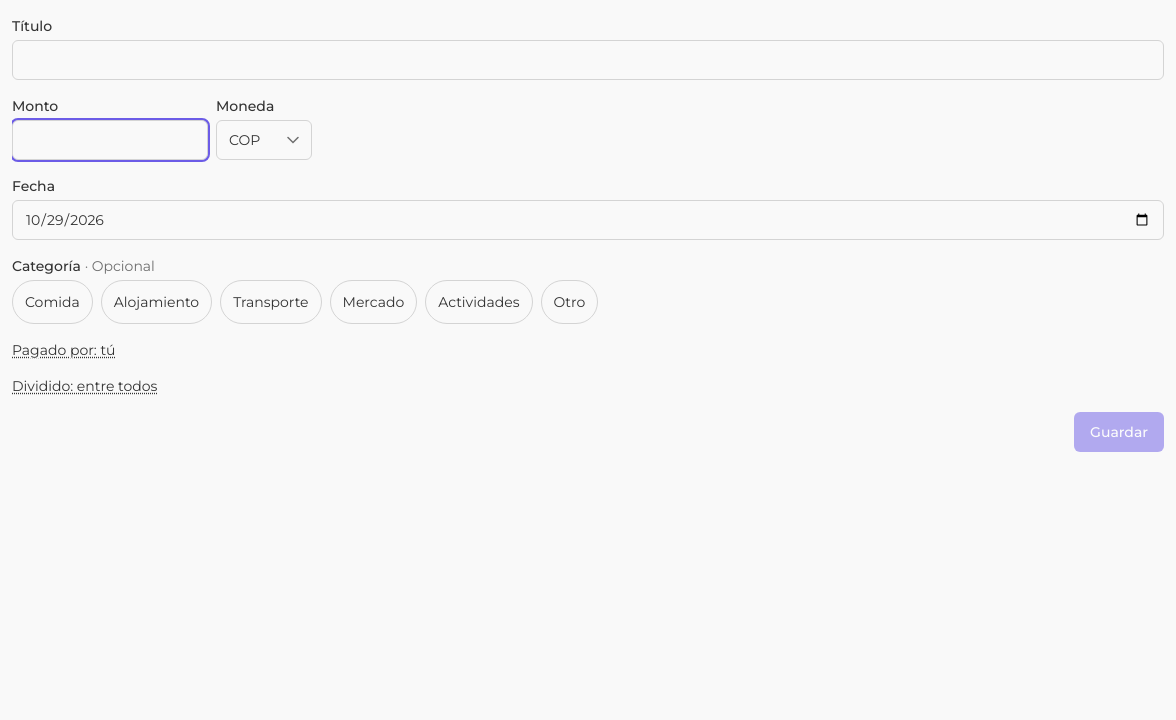
ExpenseForm › updates the save gate synchronously as an exact split becomes invalid and valid again
Type "Cena" into the field labelled "Título" at (588, 60), box [12,40,1164,80]
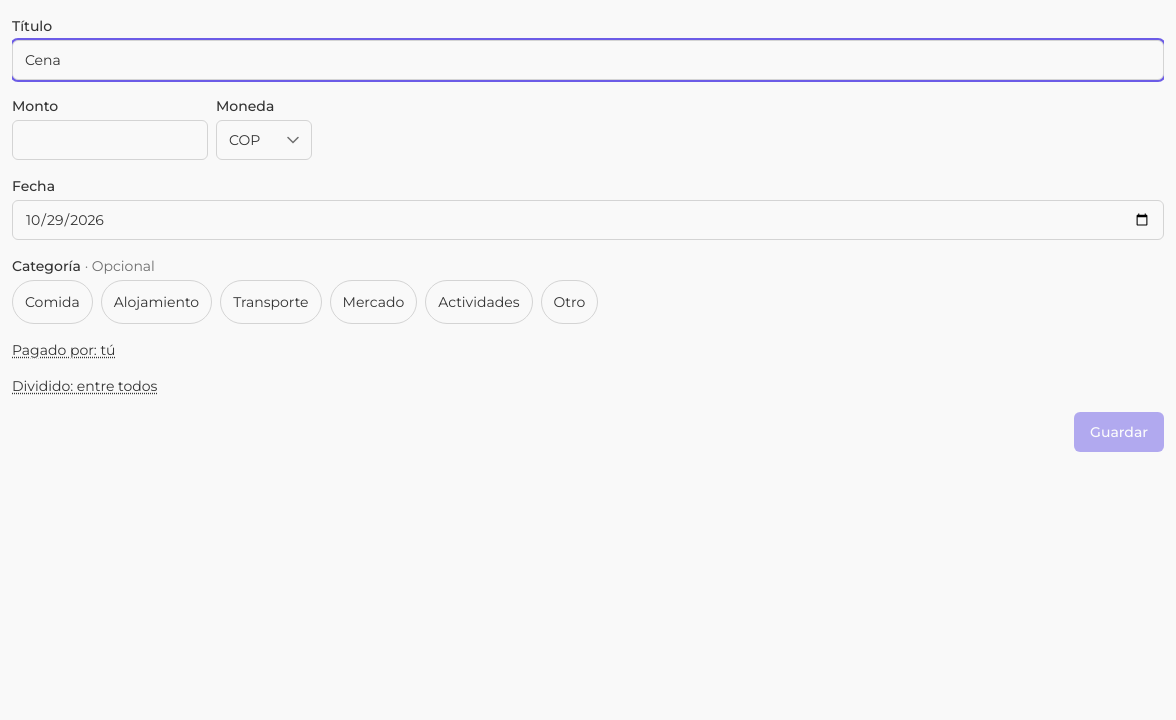
Type "100000" into the field labelled "Monto" at (110, 140), box [12,120,208,160]
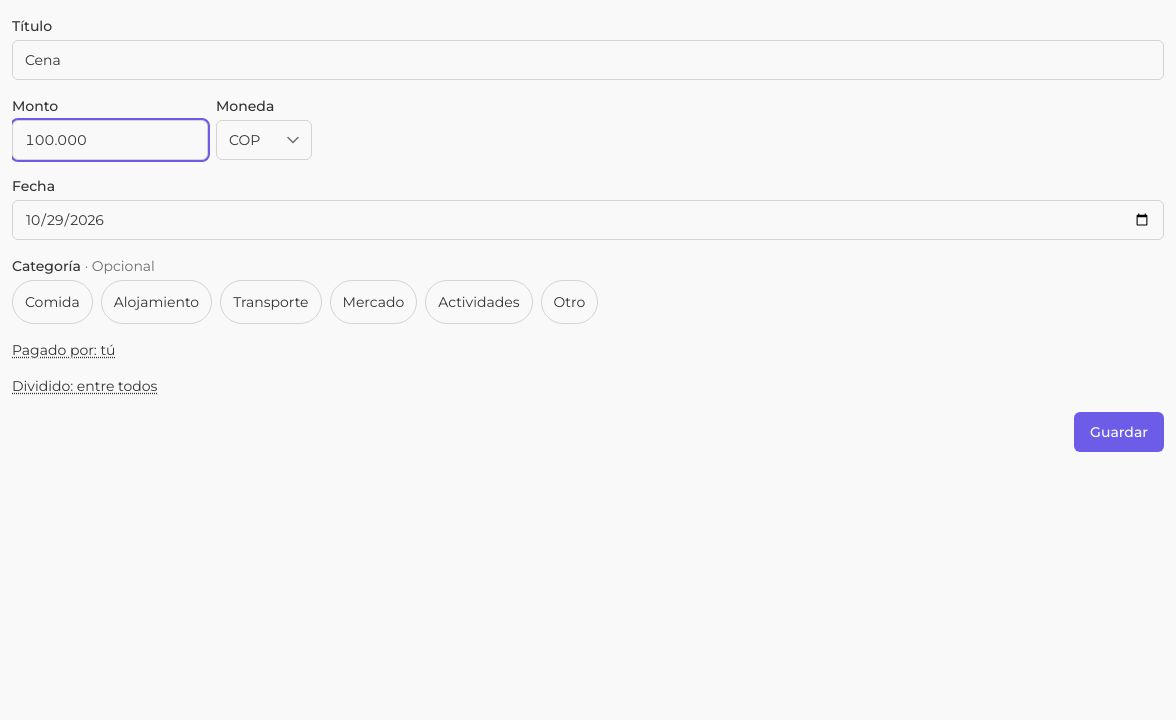
Click the button "Dividido: entre todos" at (85, 386), box [12,376,1164,396]
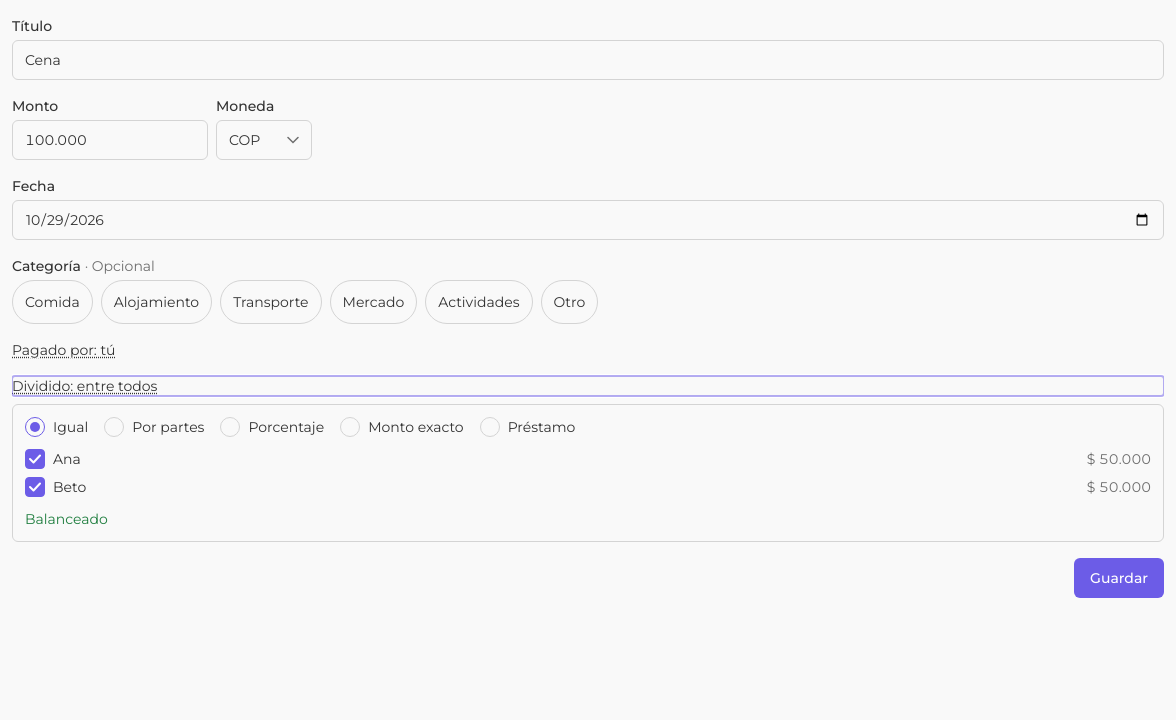
Click the radio button named "Monto exacto" next to "Monto exacto" at (350, 427), box [340,417,360,437]
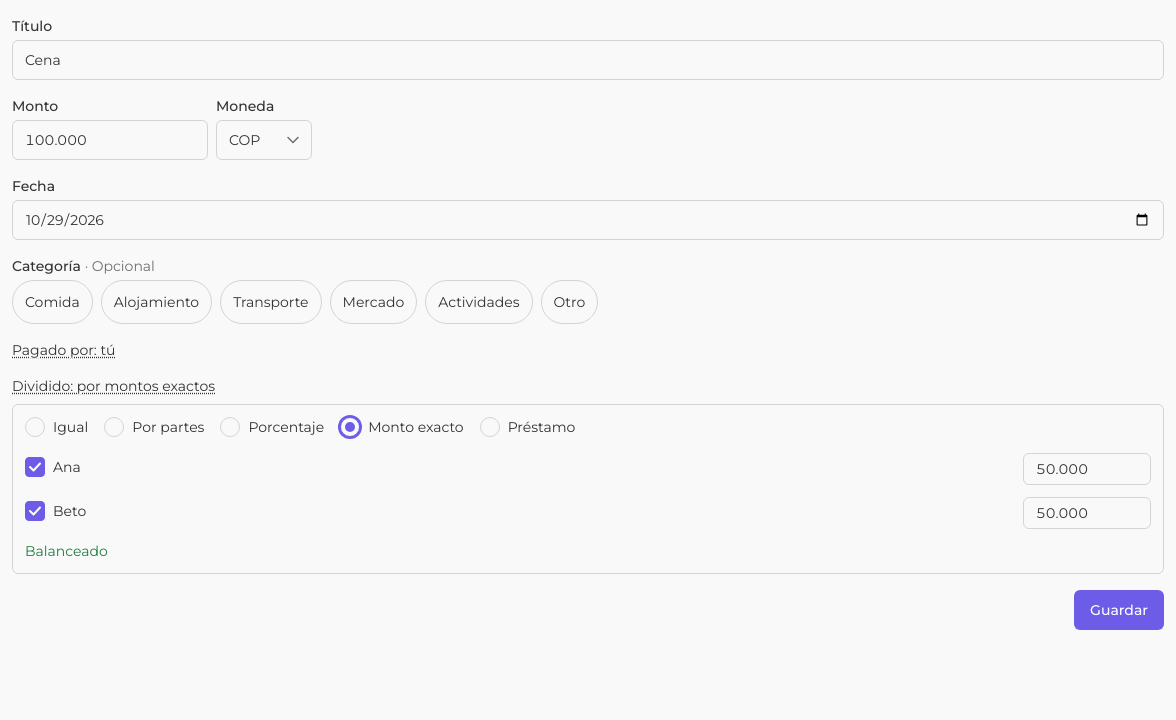
Replace the text in the field named "Ana" with "40000" at (1087, 469), box [1023,453,1151,485]
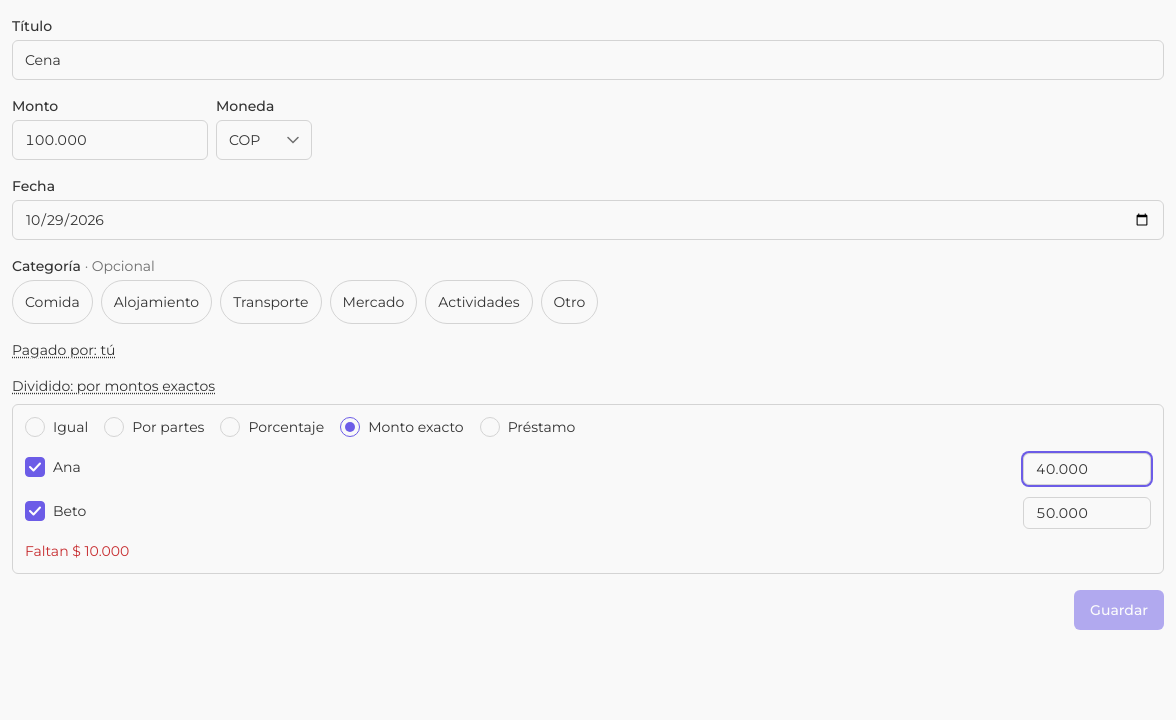
expect the button "Guardar" is disabled: met, box [1074,590,1164,630]
Replace the text in the field named "Beto" with "60000" at (1087, 513), box [1023,497,1151,529]
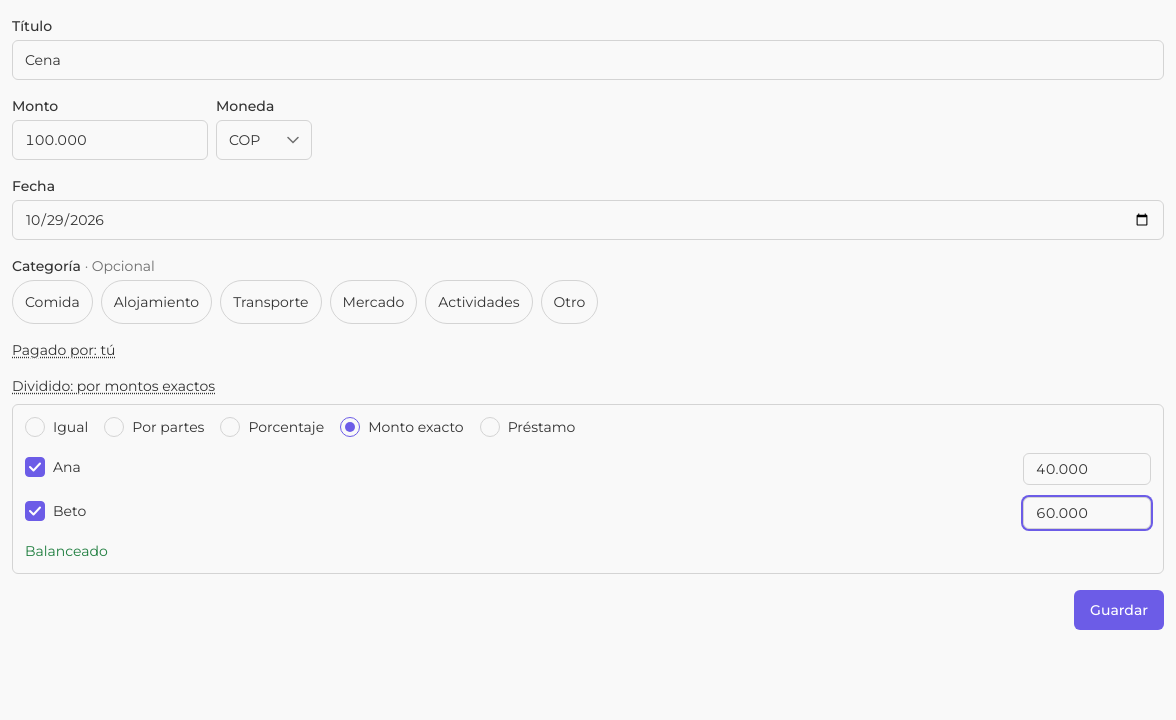
expect the button "Guardar" is enabled: met, box [1074,590,1164,630]
